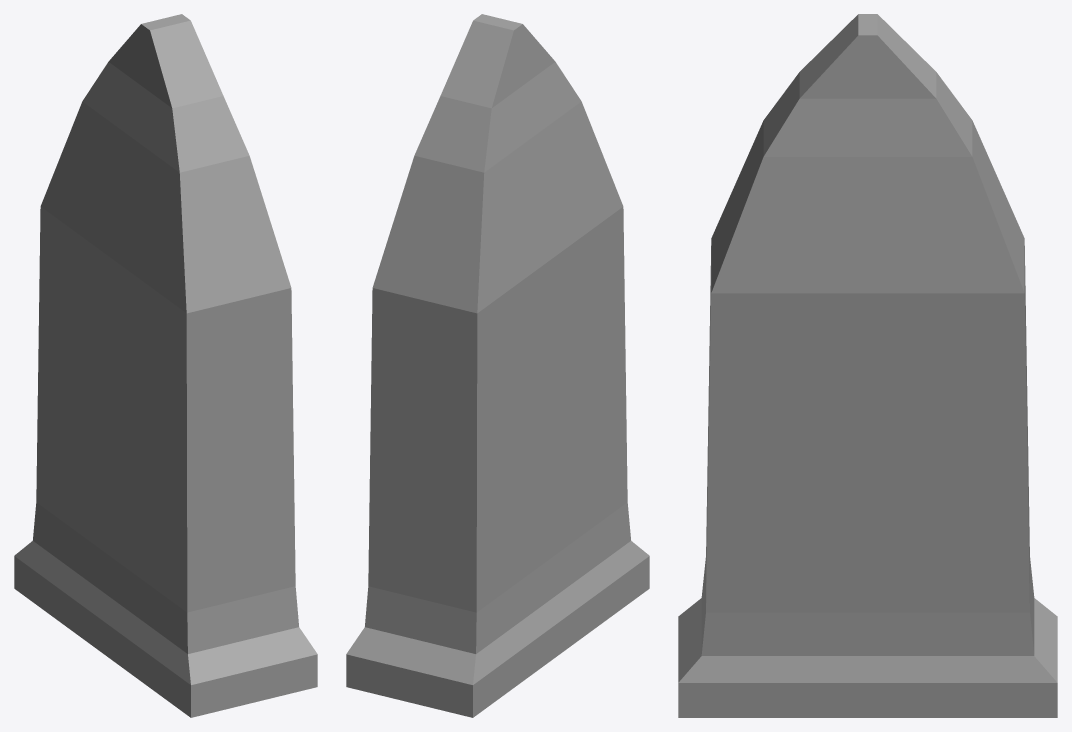
File: tombstone7.fbx
The picture shows the model from 3 angles, left to right: view 1: azimuth 30°, elevation 25°; view 2: azimuth 150°, elevation 25°; view 3: azimuth 270°, elevation 25°; orthographic projection. The views are drawn at different scales.
Visible parts, largest first — view 1: tombstone7; view 2: tombstone7; view 3: tombstone7.
Boxes of the visible parts, bbox=[...] form: tombstone7: bbox=[14, 14, 317, 717]; tombstone7: bbox=[346, 14, 649, 717]; tombstone7: bbox=[678, 14, 1057, 717].
Size of the model in its own units: 89.66 by 416 by 217.
